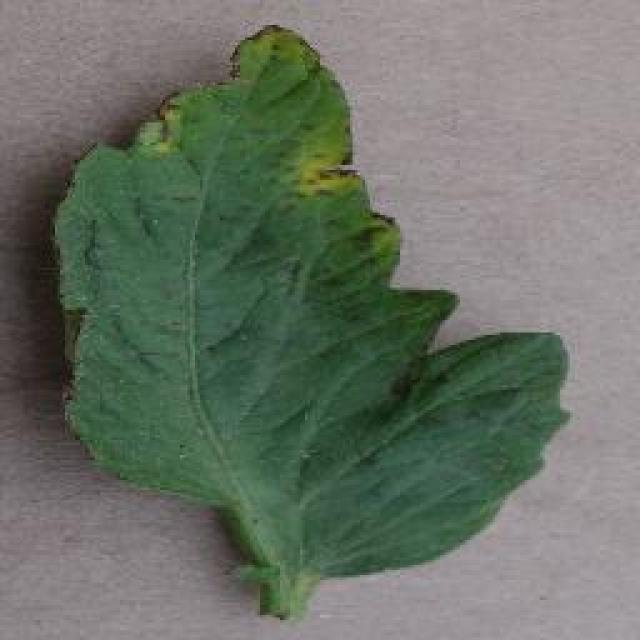Tomato___Bacterial_spot: (53, 23, 577, 621)
